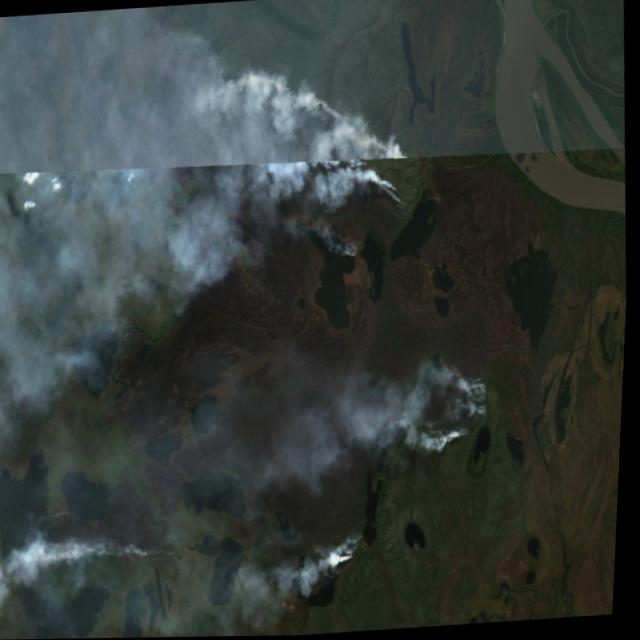fire: (0, 343, 508, 631), (230, 51, 419, 222)
